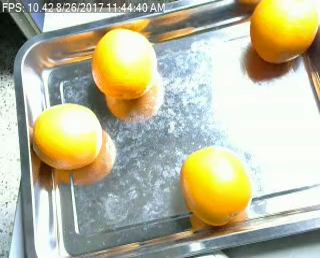Orange: (181, 145, 253, 226), (91, 27, 157, 100), (31, 103, 102, 169), (250, 1, 320, 63)
